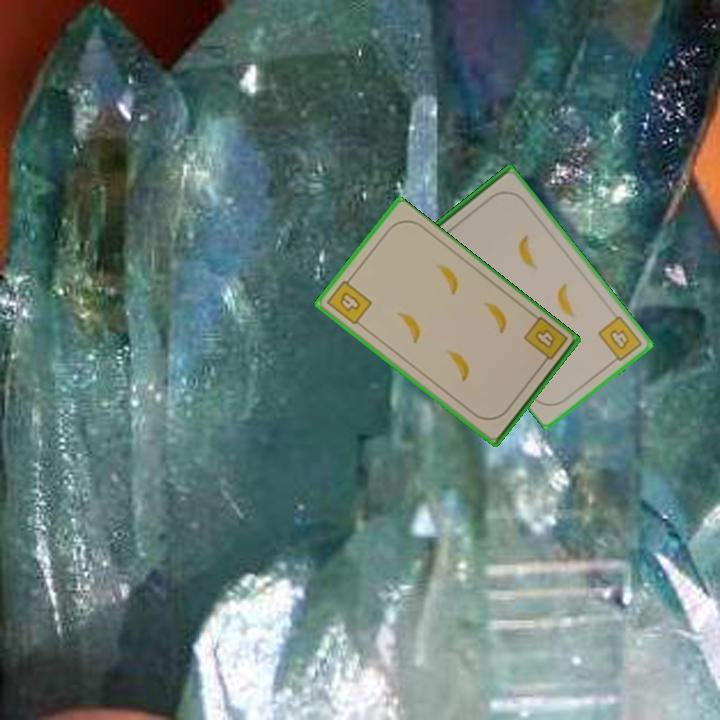4b: (519, 313, 571, 369), (323, 273, 375, 328), (594, 312, 645, 367)
